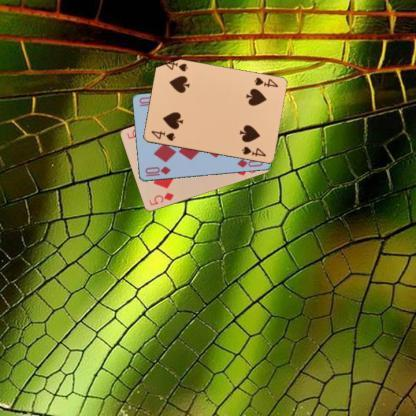10d: (142, 163, 172, 178)
4s: (251, 74, 278, 90), (148, 128, 176, 142)
5d: (146, 189, 175, 207)
